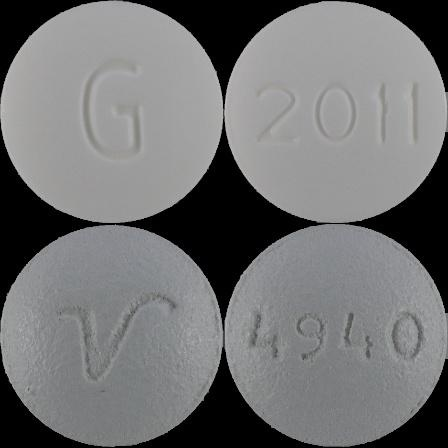68084-820: (0, 0, 224, 224)
